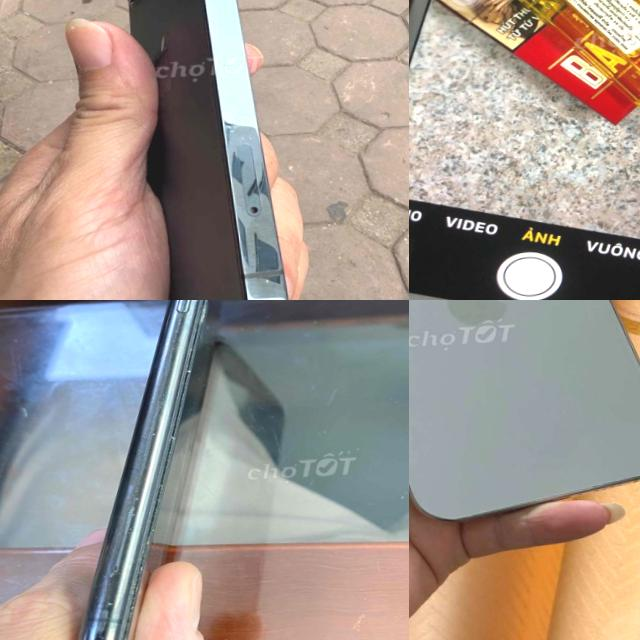scratch: (87, 489, 147, 640), (180, 300, 213, 329), (152, 410, 178, 442), (169, 347, 194, 377)
